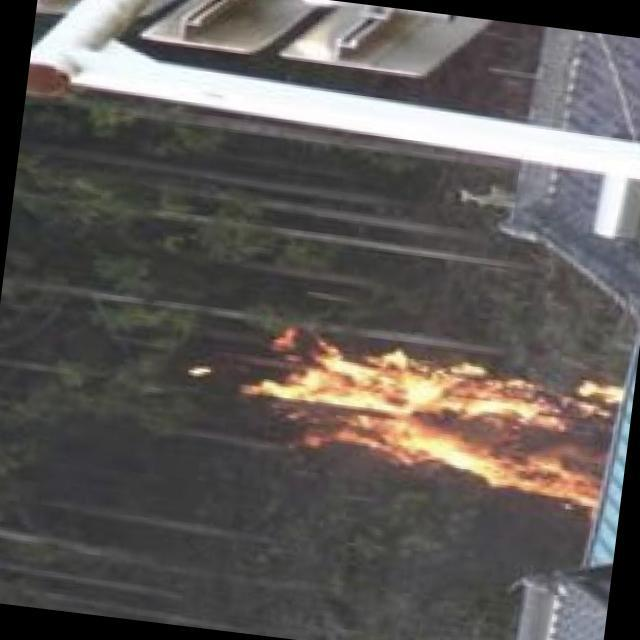Fire: (238, 323, 625, 508)
